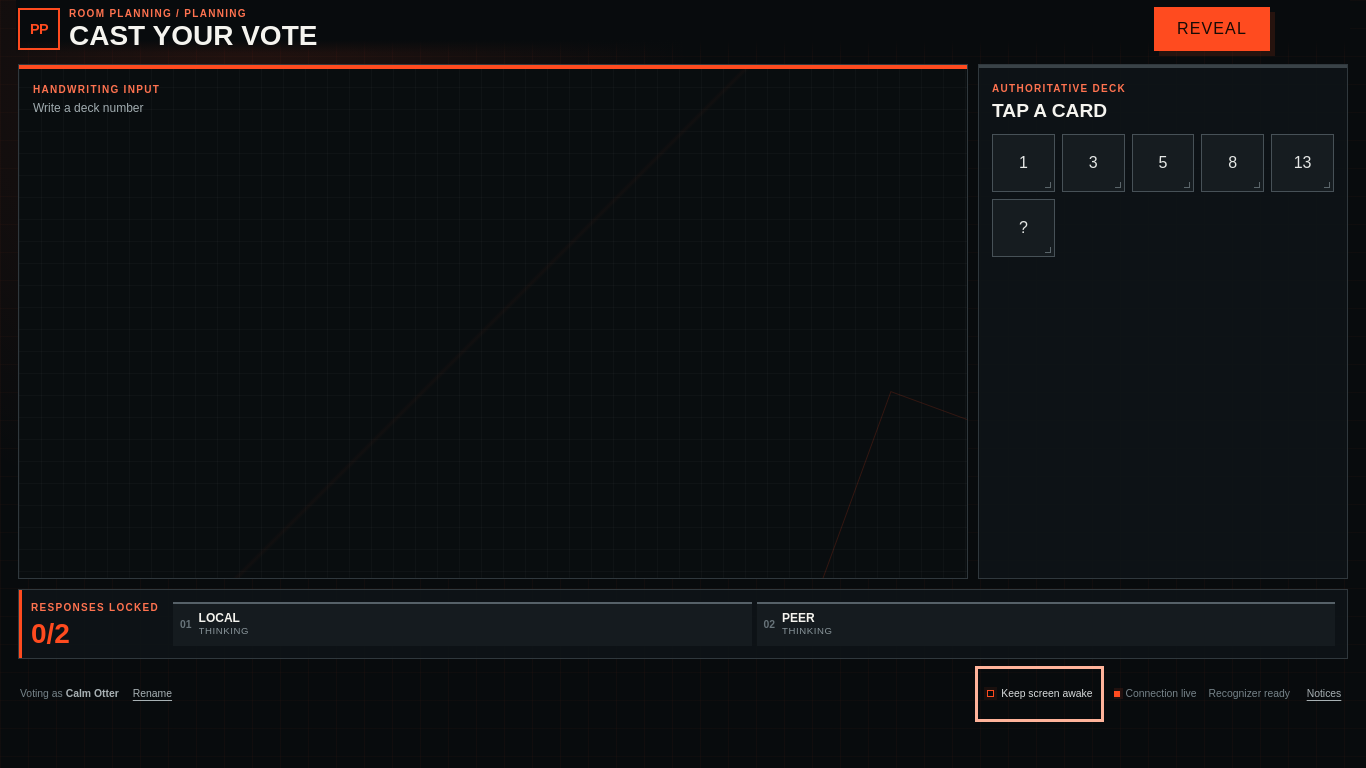
Test: VotingApp voting controls › restores focus to Rename when the wake-lock action becomes held
This screenshot has width=1366, height=768.
Step 1. Click the button "Keep screen awake" → (1040, 694), box [981,672,1098,716]
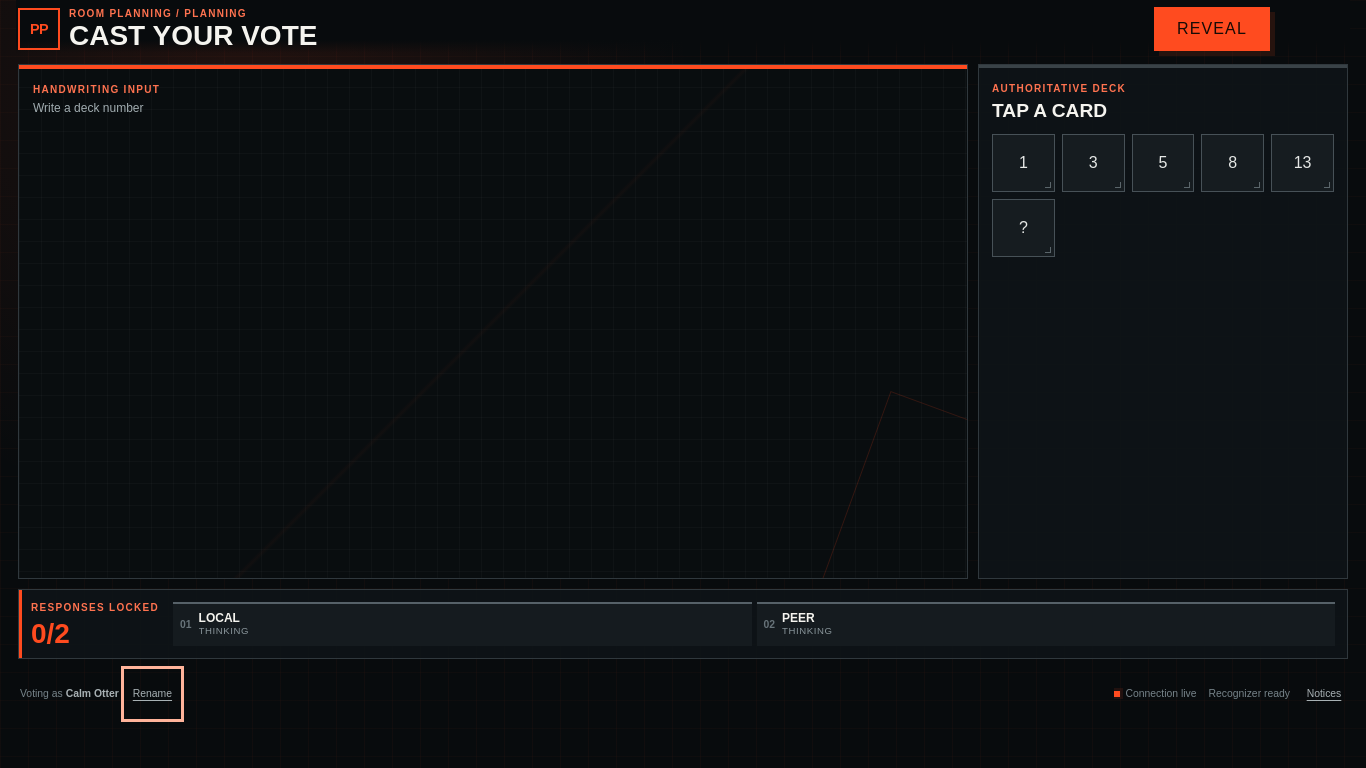
Expected: the button "Keep screen awake" is gone
